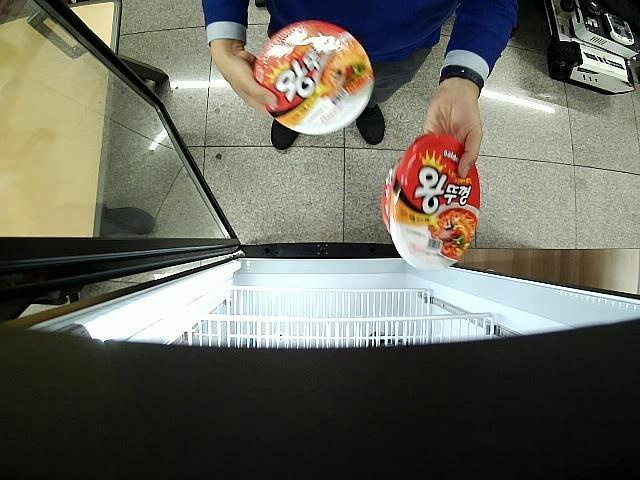10_wangTtukkeong: (254, 21, 374, 134), (384, 132, 482, 270)
